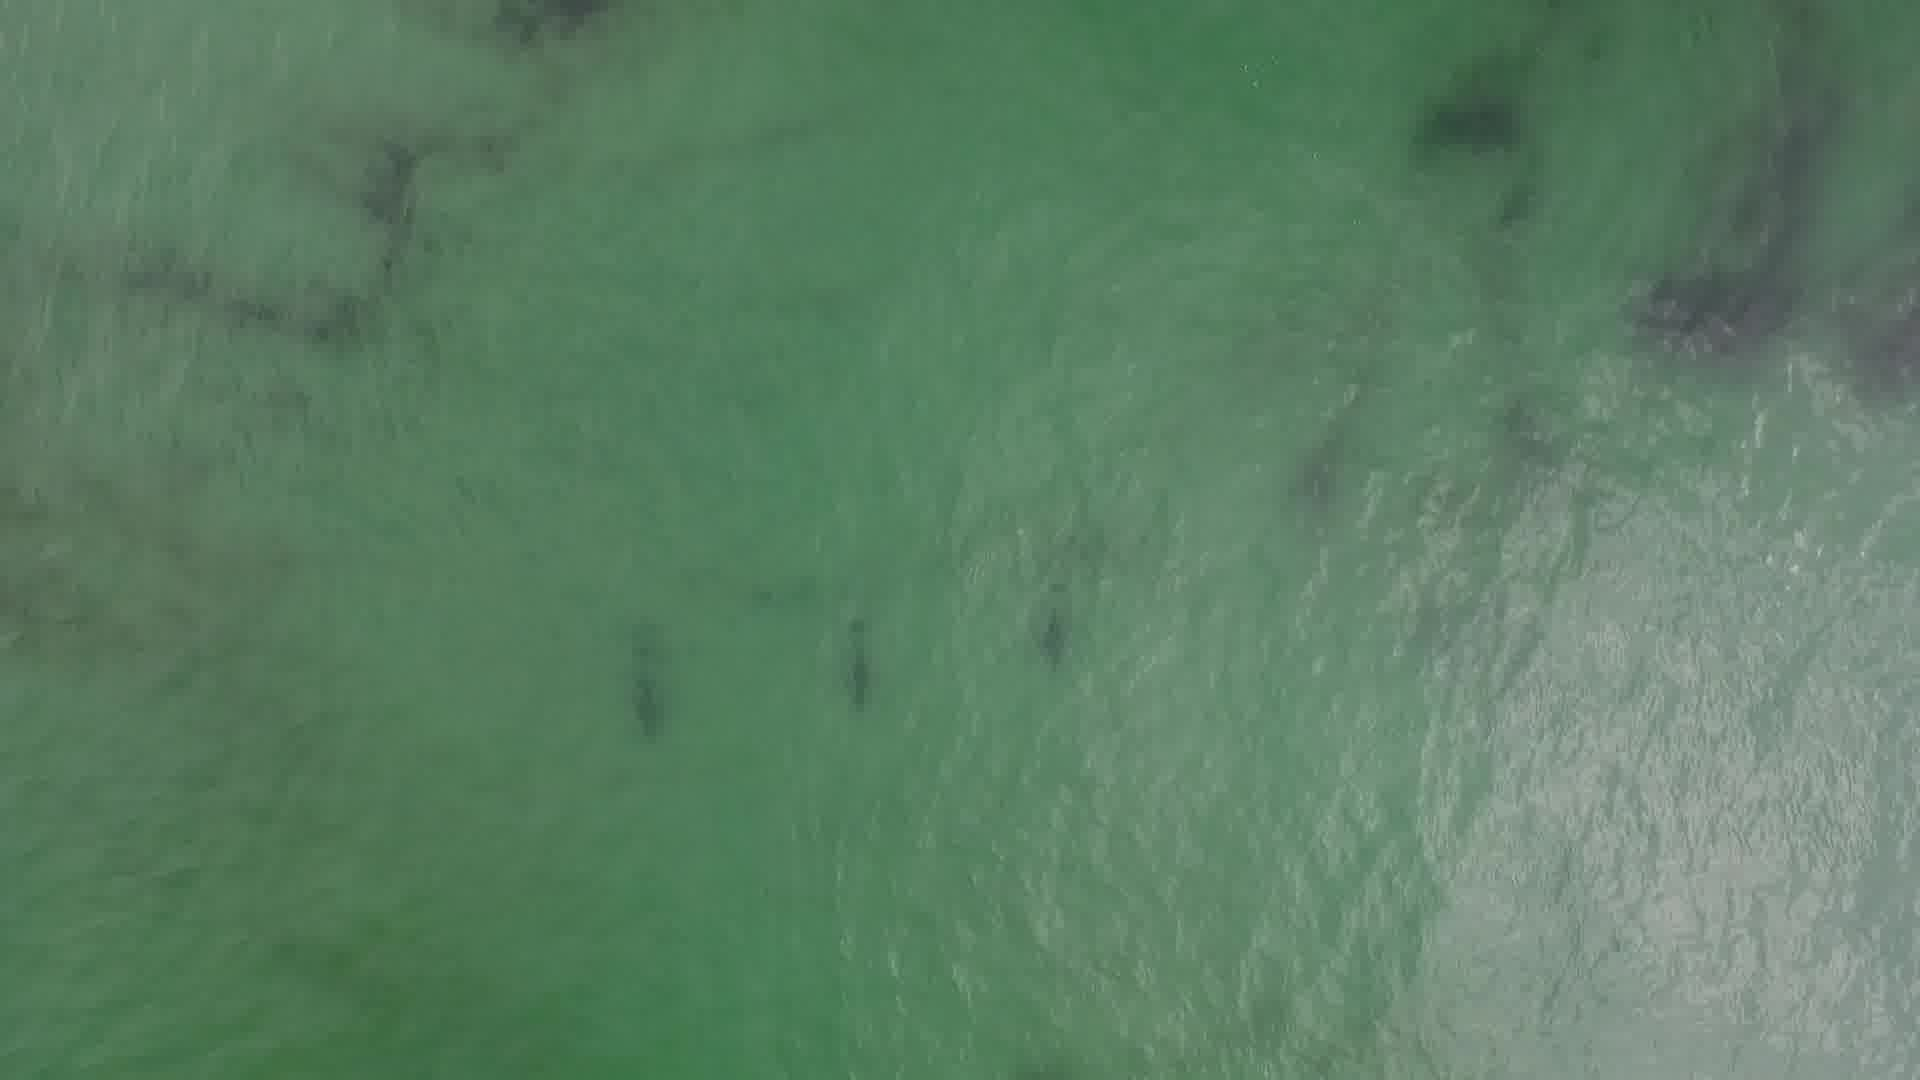dolphin: (604, 609, 676, 736), (825, 605, 877, 705)
